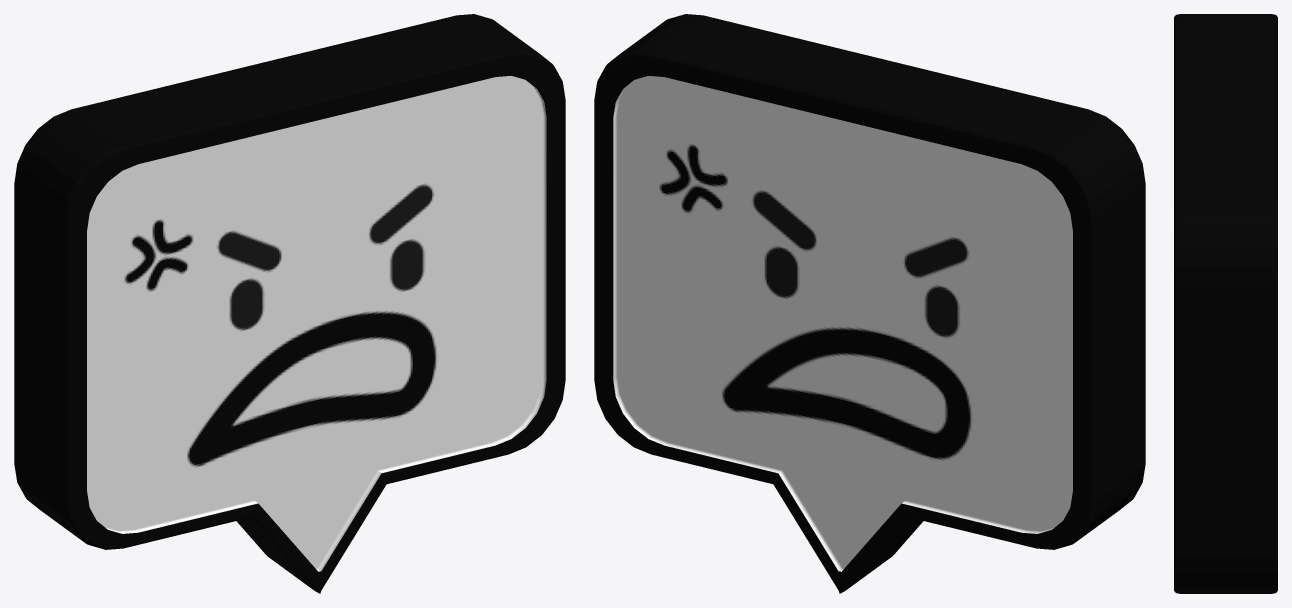
The model's file is Lose_v2.fbx.
3 renders of one model, left to right at view 1: azimuth 30°, elevation 25°; view 2: azimuth 150°, elevation 25°; view 3: azimuth 270°, elevation 25°, orthographic. The views are drawn at different scales.
Parts seen in each view (by area): view 1: lose; view 2: lose; view 3: lose.
Part boxes in pixels (<box>): lose: <box>14,14,565,593</box>; lose: <box>594,14,1145,593</box>; lose: <box>1174,14,1277,593</box>.
Bounding box in the file's own units: 1.87 × 1.77 × 0.3496.
1 material, 1 textured.
